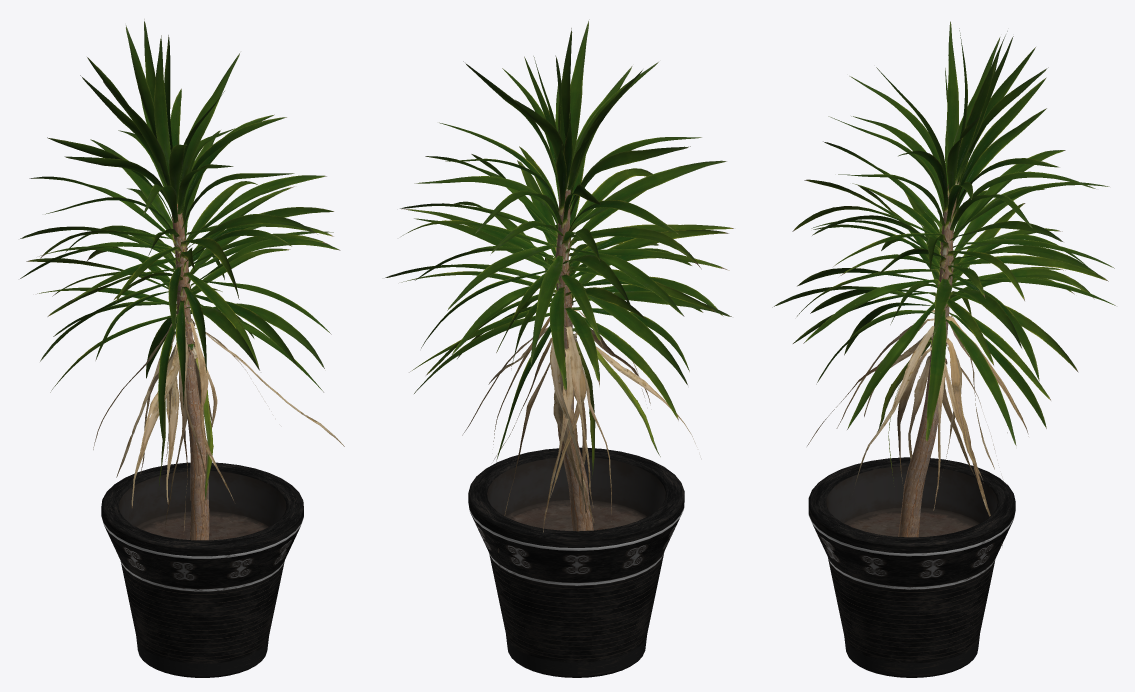
The model's file is flower pot.fbx.
3 views of the same model, side by side, from view 1: azimuth 30°, elevation 25°; view 2: azimuth 150°, elevation 25°; view 3: azimuth 270°, elevation 25° (orthographic). The views are drawn at different scales.
Parts seen in each view (by area): view 1: group4, flower_pot_2; view 2: group4, flower_pot_2; view 3: group4, flower_pot_2.
Part boxes in pixels (<box>): group4: <box>20,19,344,540</box>; flower_pot_2: <box>101,462,303,677</box>; group4: <box>385,19,733,552</box>; flower_pot_2: <box>468,447,684,677</box>; group4: <box>772,21,1115,545</box>; flower_pot_2: <box>808,457,1015,677</box>.
Size of the model in its own units: 1.59 by 3.08 by 1.58.
